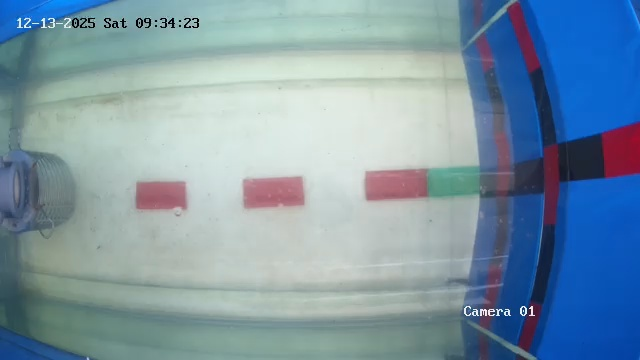fish: (443, 273, 490, 296)
